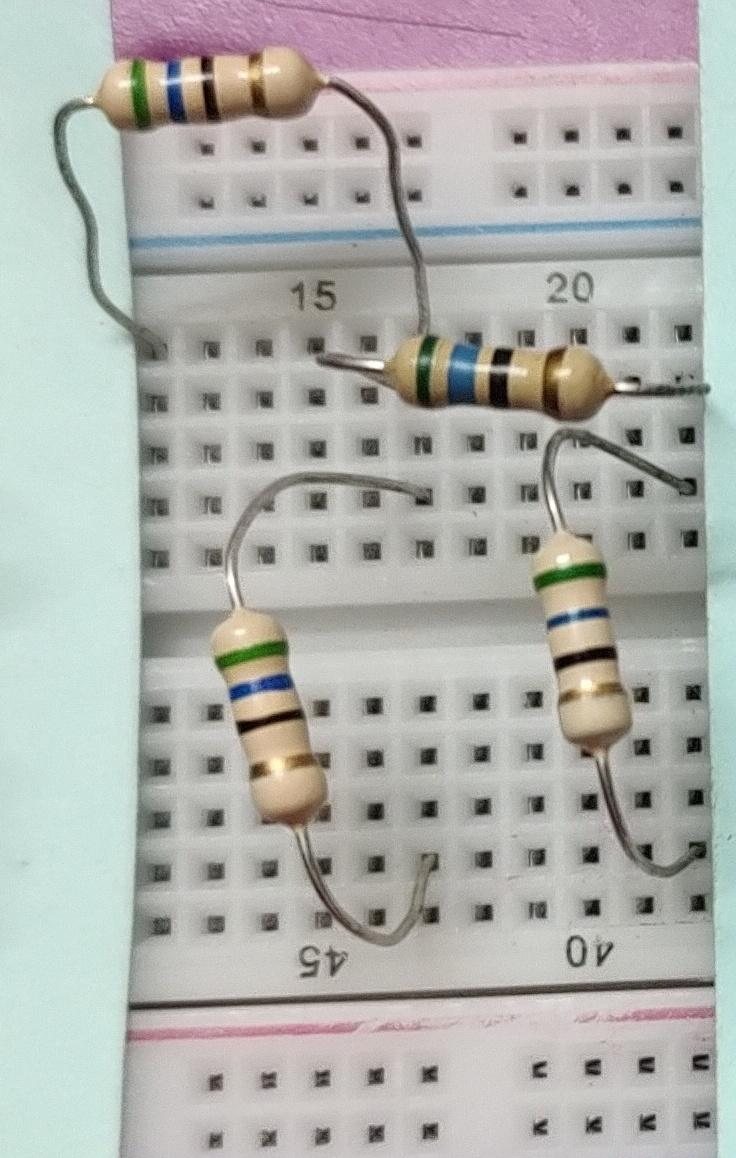resistor: (193, 593, 358, 854), (513, 521, 639, 775), (81, 38, 353, 139), (361, 336, 635, 427)
